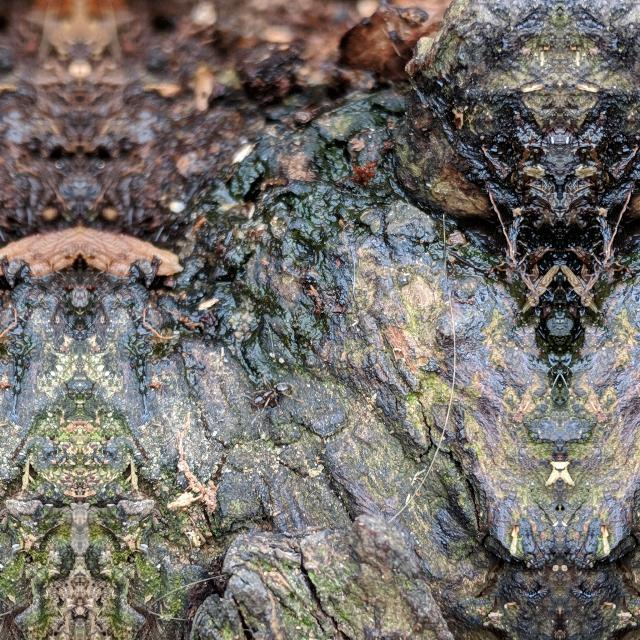Tapinoma: (242, 374, 294, 418)
